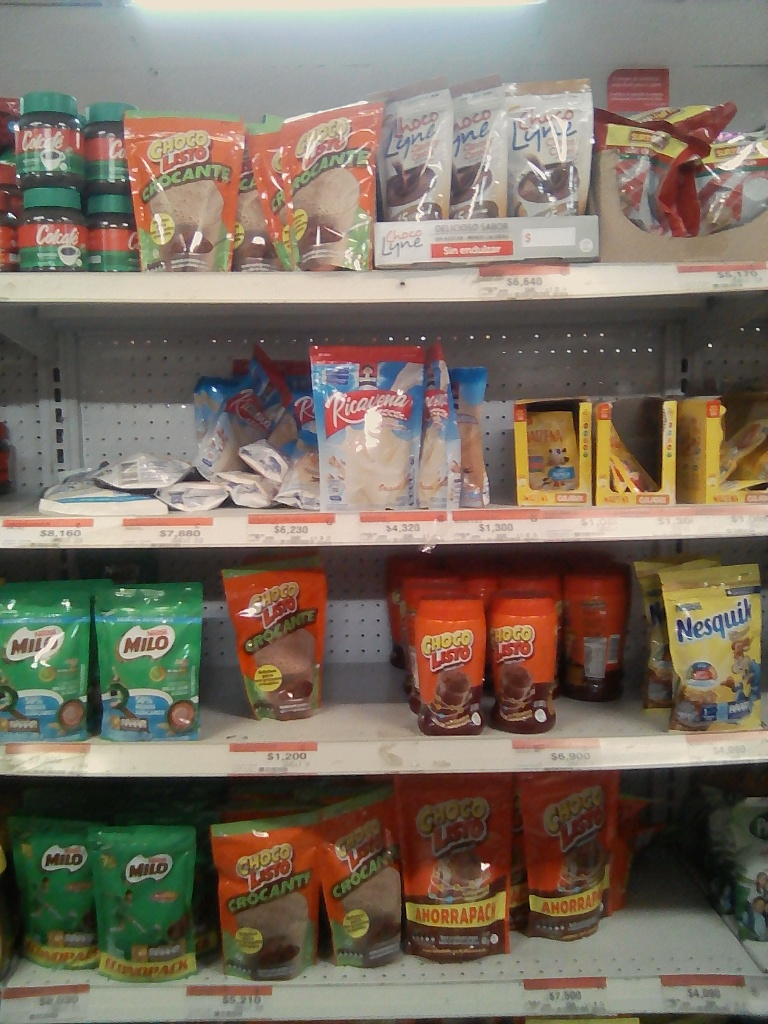COL0170102DYP25000: (128, 114, 230, 270)
COL0170102DYP50000: (204, 799, 322, 980)
COL0170103DYP44000: (386, 774, 510, 966)
COL0170103TRR30000: (391, 555, 483, 735)
COL0170203DYP25000: (5, 806, 101, 978)
COL0170205DYP20000: (4, 577, 98, 748)
COL0170303DYP20000: (630, 544, 764, 730)
